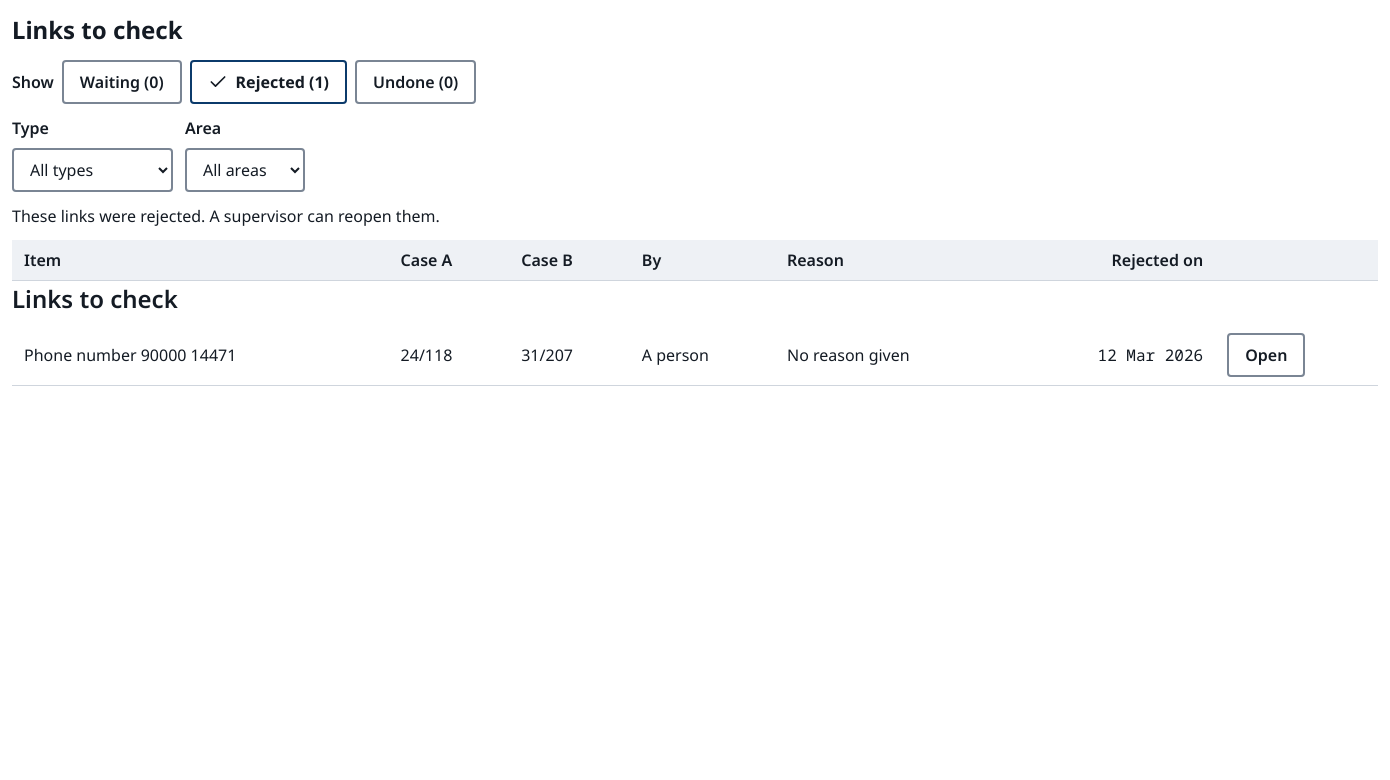
Scenario: opening a rejected link makes one link call and shows who, when and why in the panel
Click the button "Open" at (1266, 355), box [1227, 333, 1305, 377]
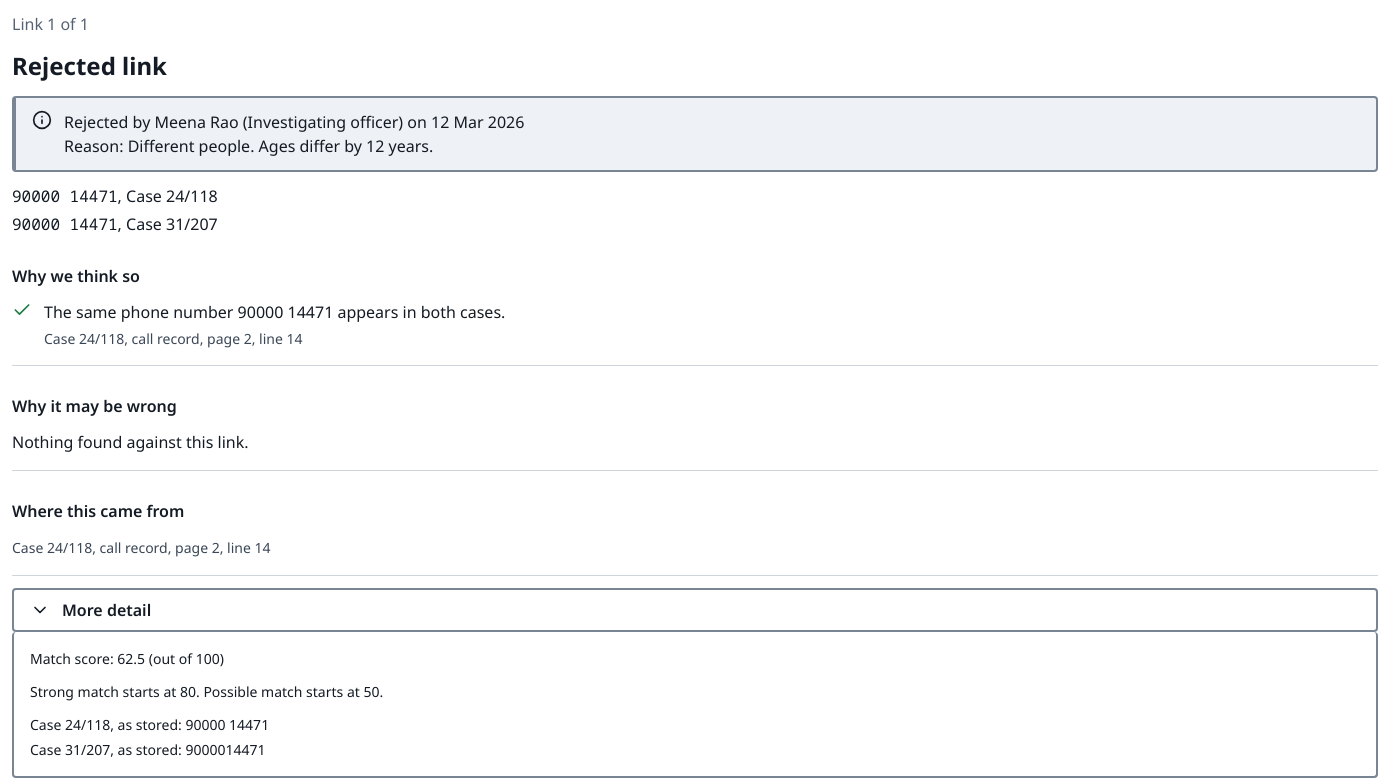
Now the text "Rejected by Meena Rao (Investigating officer) on 12 Mar 2026" is shown, box [64, 111, 524, 133]
Now the text "Reason: Different people. Ages differ by 12 years." is shown, box [64, 135, 433, 157]
